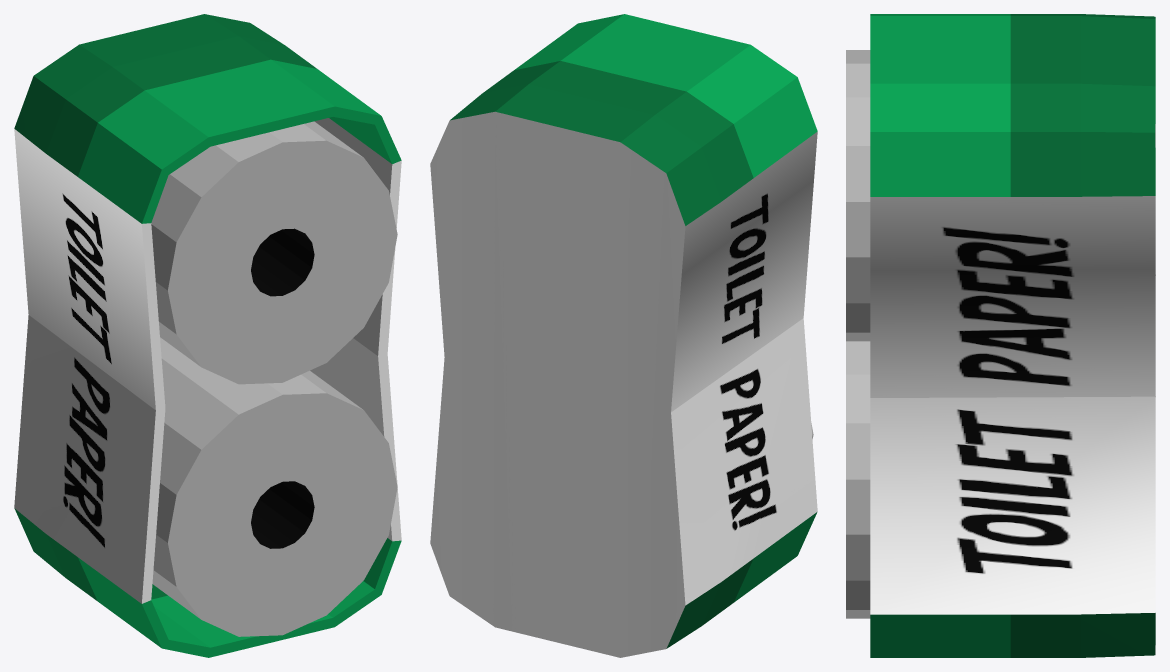
Rendered from Toilet paper.002.obj.
3 views of the same model, side by side, from view 1: azimuth 30°, elevation 25°; view 2: azimuth 150°, elevation 25°; view 3: azimuth 270°, elevation 25° (orthographic). The views are drawn at different scales.
Parts seen in each view (by area): view 1: Toilet paper.002; view 2: Toilet paper.002; view 3: Toilet paper.002.
Part boxes in pixels (x1=…): Toilet paper.002: x1=14, y1=14, x2=401, y2=657; Toilet paper.002: x1=430, y1=14, x2=817, y2=657; Toilet paper.002: x1=846, y1=14, x2=1155, y2=657.
Bounding box in the file's own units: 0.2714 × 0.5196 × 0.2549.
